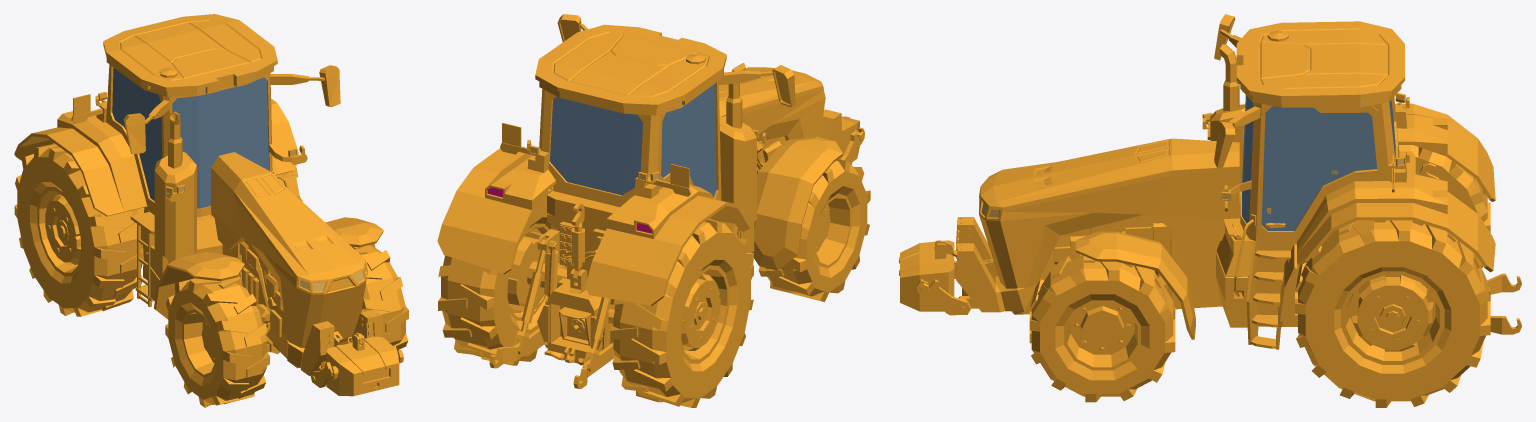
The model's file is SM_Tractor_Big.fbx.
The picture shows the model from 3 angles, left to right: view 1: azimuth 30°, elevation 25°; view 2: azimuth 150°, elevation 25°; view 3: azimuth 270°, elevation 25°; orthographic projection. The views are drawn at different scales.
Visible parts, largest first — view 1: tractor-big-base, tractor-big-wheel-rba, tractor-big-wheel-rfr, tractor-big-weigt, tractor-big-wheel-lfr, tractor-big-fender-fr, tractor-big-fender-fl, tractor-big-tph-bfr; view 2: tractor-big-base, tractor-big-wheel-rba, tractor-big-wheel-lba, tractor-big-wheel-rfr, tractor-big-fender-fr, tractor-big-tph-tba-b, tractor-big-weigt; view 3: tractor-big-base, tractor-big-wheel-lba, tractor-big-wheel-lfr, tractor-big-fender-fl, tractor-big-weigt, tractor-big-wheel-rba, tractor-big-tph-bfr.
Boxes of the visible parts, left/top/right/bottom form: tractor-big-base: left=14, top=14, right=382, bottom=381; tractor-big-wheel-rba: left=14, top=143, right=143, bottom=316; tractor-big-wheel-rfr: left=165, top=276, right=269, bottom=407; tractor-big-weigt: left=326, top=333, right=403, bottom=396; tractor-big-wheel-lfr: left=352, top=244, right=408, bottom=350; tractor-big-fender-fr: left=154, top=252, right=244, bottom=319; tractor-big-fender-fl: left=325, top=217, right=383, bottom=247; tractor-big-tph-bfr: left=310, top=346, right=403, bottom=387; tractor-big-base: left=437, top=14, right=842, bottom=388; tractor-big-wheel-rba: left=610, top=217, right=753, bottom=407; tractor-big-wheel-lba: left=438, top=186, right=566, bottom=365; tractor-big-wheel-rfr: left=758, top=159, right=870, bottom=301; tractor-big-fender-fr: left=752, top=136, right=842, bottom=270; tractor-big-tph-tba-b: left=571, top=203, right=584, bottom=263; tractor-big-weigt: left=838, top=116, right=864, bottom=161; tractor-big-base: left=956, top=14, right=1521, bottom=349; tractor-big-wheel-lba: left=1295, top=220, right=1490, bottom=407; tractor-big-wheel-lfr: left=1029, top=255, right=1175, bottom=402; tractor-big-fender-fl: left=1075, top=231, right=1195, bottom=339; tractor-big-weigt: left=899, top=240, right=954, bottom=311; tractor-big-wheel-rba: left=1398, top=145, right=1490, bottom=268; tractor-big-tph-bfr: left=916, top=260, right=970, bottom=315.
Size of the model in its own units: 2.91 by 3.42 by 6.49.
